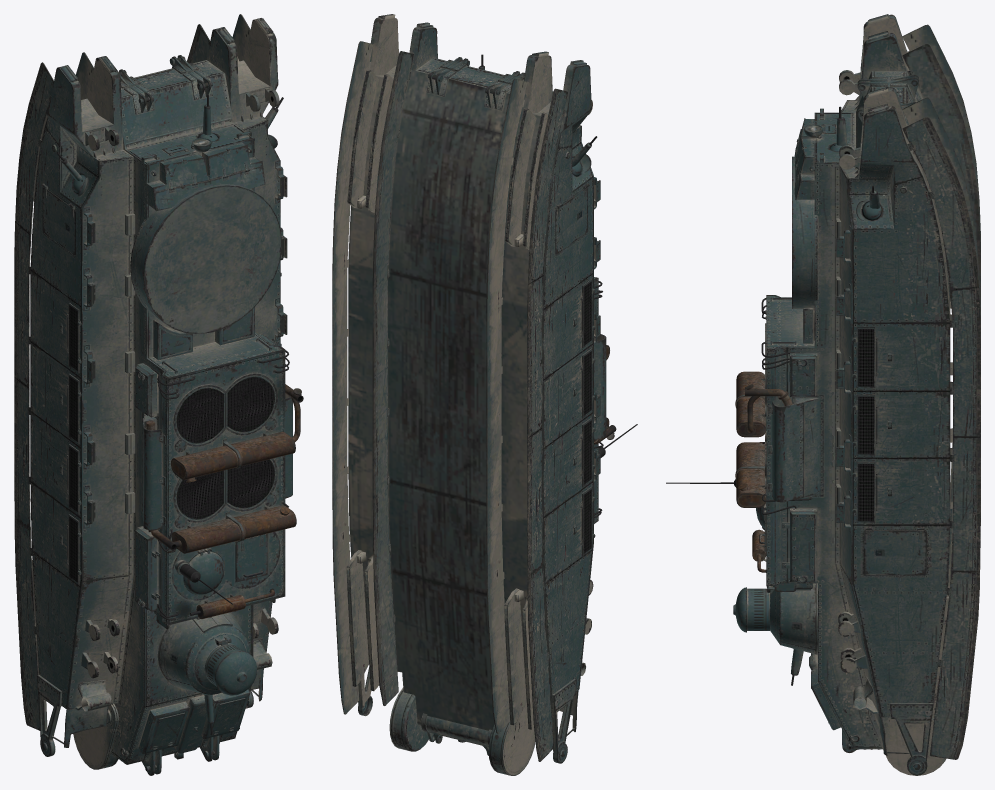
The model's file is Hull.glb.
3 views of the same model, side by side, from view 1: azimuth 30°, elevation 25°; view 2: azimuth 150°, elevation 25°; view 3: azimuth 270°, elevation 25° (orthographic). The views are drawn at different scales.
Visible parts, largest first — view 1: set_0_group_0; view 2: set_0_group_0; view 3: set_0_group_0.
Part boxes in pixels (x1,y1,x2,y2): set_0_group_0: [14, 14, 303, 775]; set_0_group_0: [332, 14, 637, 775]; set_0_group_0: [666, 14, 980, 775].
Bounding box in the file's own units: 3.22 × 9.78 × 4.04.
1 material, 1 textured.
